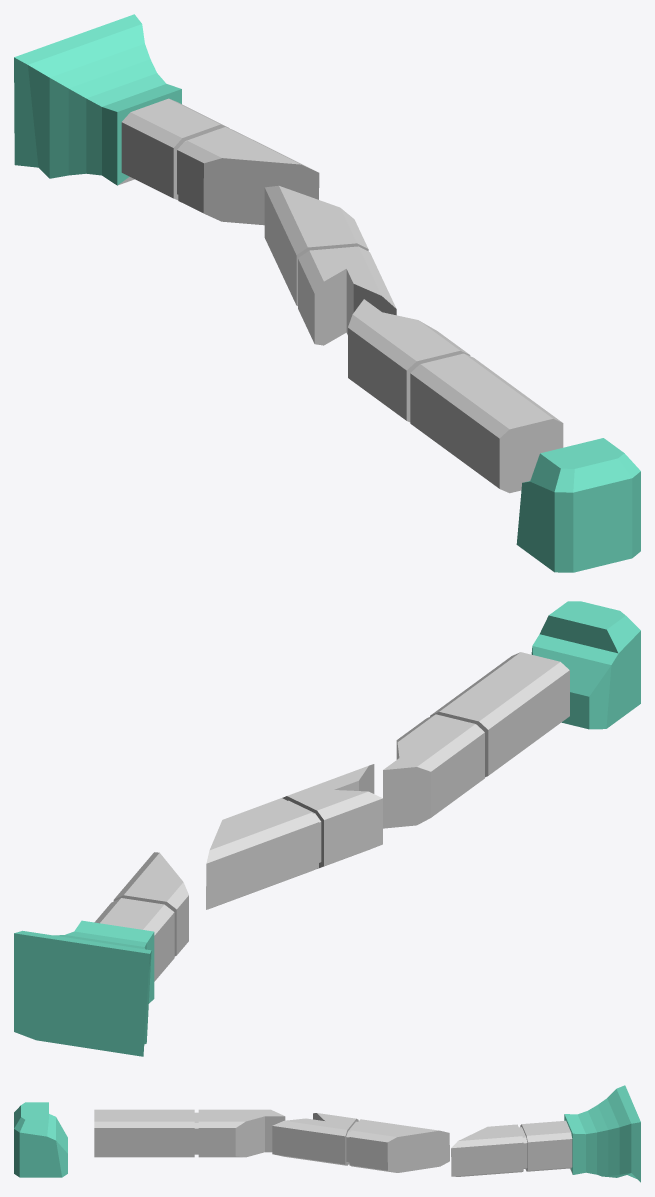
The model's file is Coluna Quebrada.fbx.
3 renders of one model, top to bottom at view 1: azimuth 30°, elevation 25°; view 2: azimuth 150°, elevation 25°; view 3: azimuth 270°, elevation 25°, orthographic. The views are drawn at different scales.
Visible parts, largest first — view 1: Coluna Quebrada; view 2: Coluna Quebrada; view 3: Coluna Quebrada.
Part boxes in pixels (x1,y1,x2,y2): Coluna Quebrada: (14,14,640,572); Coluna Quebrada: (14,601,640,1056); Coluna Quebrada: (14,1085,640,1182).
Bounding box in the file's own units: 177 × 136 × 1135.
